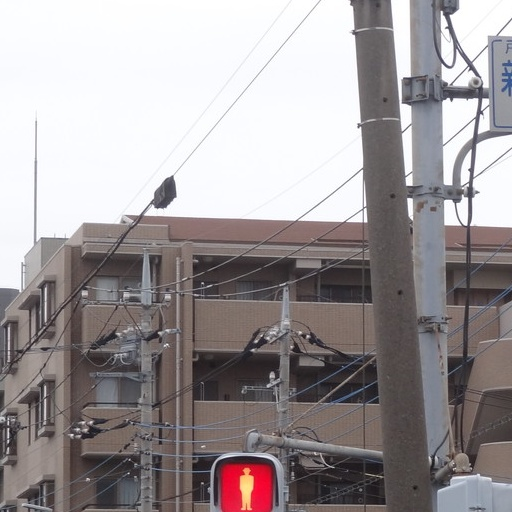Pedestrian_Signal_Red: (204, 446, 283, 507)
